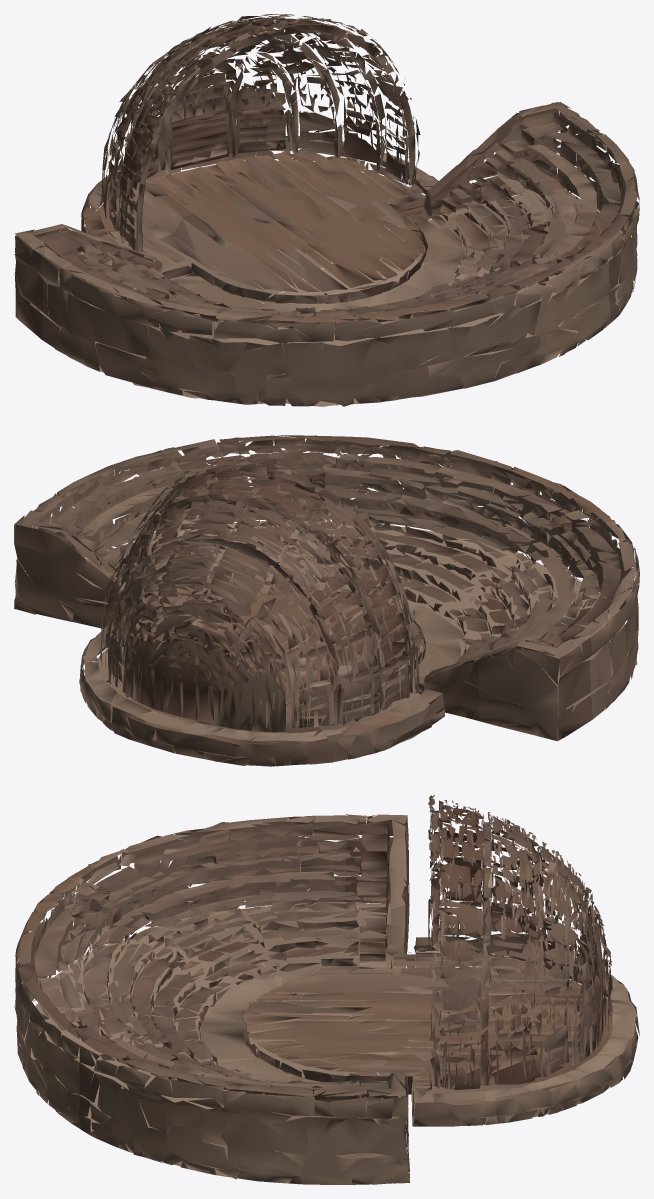
Rendered from amphitheater.glb.
3 renders of one model, top to bottom at view 1: azimuth 30°, elevation 25°; view 2: azimuth 150°, elevation 25°; view 3: azimuth 270°, elevation 25°, orthographic. The views are drawn at different scales.
Parts seen in each view (by area): view 1: LO.001; view 2: LO.001; view 3: LO.001.
Part boxes in pixels (box(x1,y1,x2,y2)): LO.001: box(14, 14, 639, 406); LO.001: box(14, 435, 639, 766); LO.001: box(14, 795, 639, 1184).
Bounding box in the file's own units: 1.9 × 0.7224 × 1.78.
Materials: 1 (1 with a texture image).
